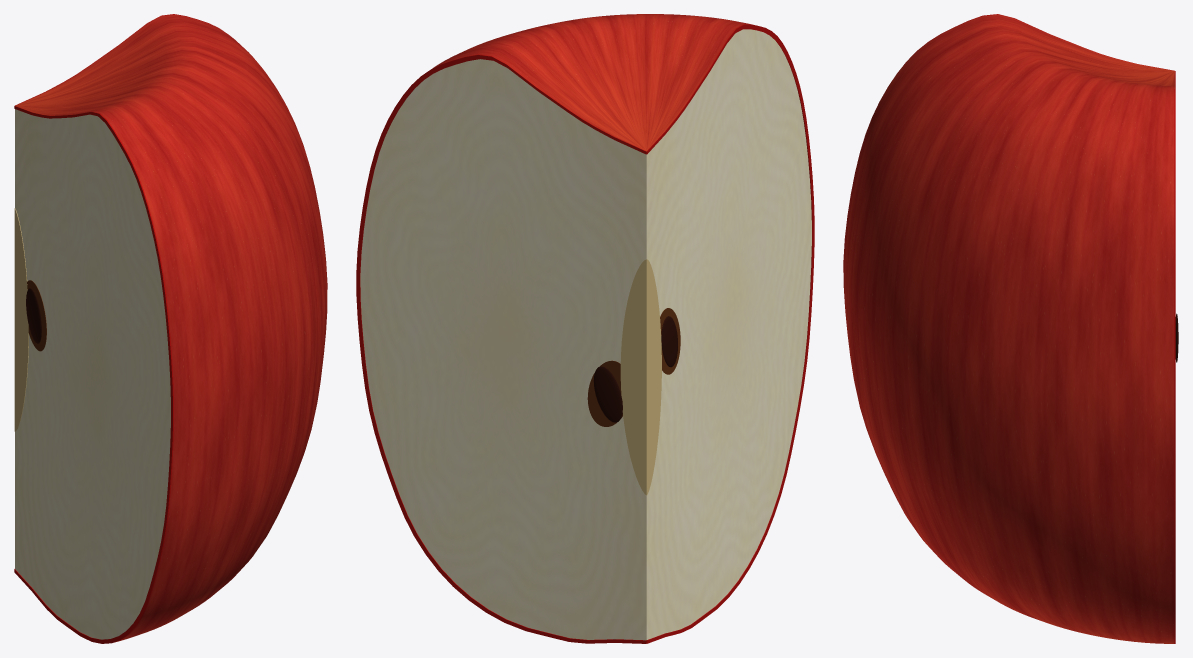
The model's file is GameApple_Quarter_45x45x84mm.fbx.
3 renders of one model, left to right at view 1: azimuth 30°, elevation 25°; view 2: azimuth 150°, elevation 25°; view 3: azimuth 270°, elevation 25°, orthographic. The views are drawn at different scales.
Parts seen in each view (by area): view 1: AppleQuarter_Fruit, AppleQuarter_CutPeelRim_X, AppleQuarter_CoreMembrane_X, AppleQuarter_Seed_X, AppleQuarter_SeedPocket_X; view 2: AppleQuarter_Fruit, AppleQuarter_CoreMembrane_Y, AppleQuarter_CutPeelRim_Y, AppleQuarter_CutPeelRim_X, AppleQuarter_CoreMembrane_X, AppleQuarter_Seed_Y, AppleQuarter_SeedPocket_Y, AppleQuarter_Seed_X; view 3: AppleQuarter_Fruit, AppleQuarter_CutPeelRim_Y.
Part boxes in pixels (x1,y1,x2,y2): AppleQuarter_Fruit: (15, 14, 327, 642); AppleQuarter_CutPeelRim_X: (14, 106, 173, 643); AppleQuarter_CoreMembrane_X: (14, 208, 28, 431); AppleQuarter_Seed_X: (26, 288, 41, 343); AppleQuarter_SeedPocket_X: (27, 280, 46, 351); AppleQuarter_Fruit: (360, 14, 811, 640); AppleQuarter_CoreMembrane_Y: (620, 259, 646, 495); AppleQuarter_CutPeelRim_Y: (356, 54, 646, 643); AppleQuarter_CutPeelRim_X: (646, 24, 814, 643); AppleQuarter_CoreMembrane_X: (646, 259, 661, 494); AppleQuarter_Seed_Y: (593, 366, 622, 422); AppleQuarter_SeedPocket_Y: (587, 360, 622, 426); AppleQuarter_Seed_X: (661, 316, 677, 367); AppleQuarter_Fruit: (843, 14, 1174, 643); AppleQuarter_CutPeelRim_Y: (1174, 71, 1175, 643).
Size of the model in its own units: 0.0455 by 0.084 by 0.0455.
Materials: 6 (2 with a texture image).
